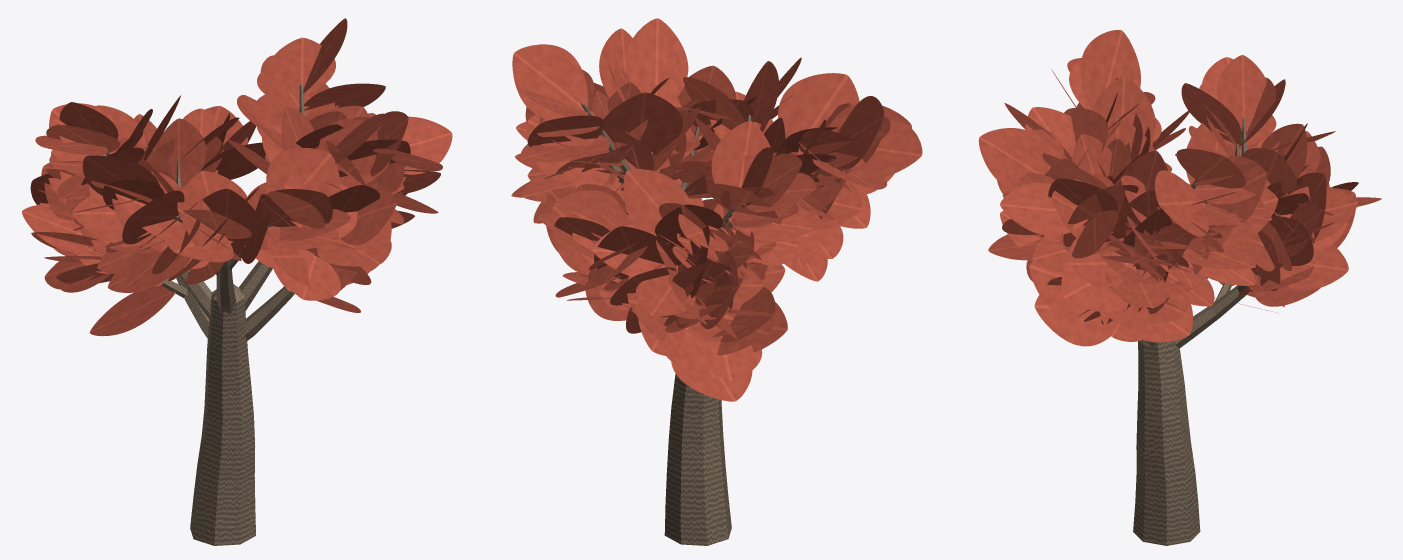
The model's file is 단풍나무_01.fbx.
3 views of the same model, side by side, from view 1: azimuth 30°, elevation 25°; view 2: azimuth 150°, elevation 25°; view 3: azimuth 270°, elevation 25° (orthographic). The views are drawn at different scales.
Visible parts, largest first — view 1: 단풍나무_01; view 2: 단풍나무_01; view 3: 단풍나무_01.
Boxes of the visible parts, x1,y1,x2,y2 form: 단풍나무_01: (22,18,452,545); 단풍나무_01: (511,18,922,545); 단풍나무_01: (978,30,1381,545).
Bounding box in the file's own units: 7235 × 8550 × 7051.
2 materials, 2 textured.
